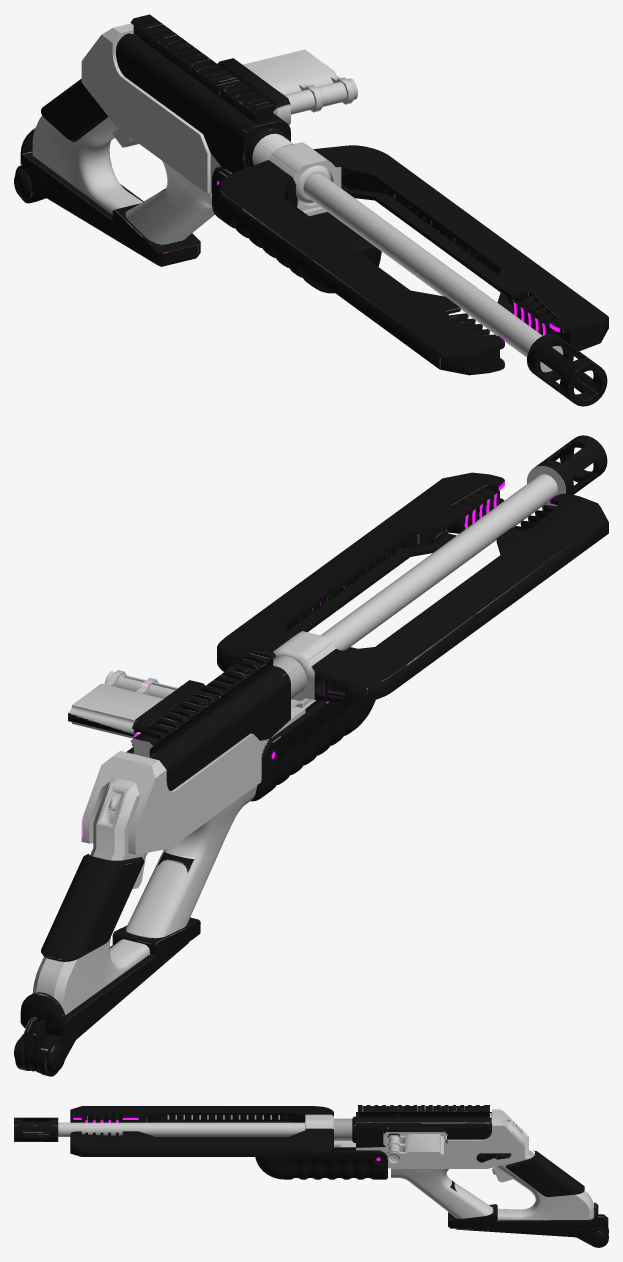
The model's file is Kilometer.glb.
3 renders of one model, top to bottom at view 1: azimuth 30°, elevation 25°; view 2: azimuth 150°, elevation 25°; view 3: azimuth 270°, elevation 25°, orthographic. The views are drawn at different scales.
Visible parts, largest first — view 1: grip plate_low.002; view 2: grip plate_low.002; view 3: grip plate_low.002.
Part boxes in pixels (<box>): grip plate_low.002: <box>14,14,608,406</box>; grip plate_low.002: <box>14,435,608,1076</box>; grip plate_low.002: <box>14,1105,608,1247</box>.
Size of the model in its own units: 0.0985 by 0.1173 by 0.4619.
Materials: 1 (1 with a texture image).
